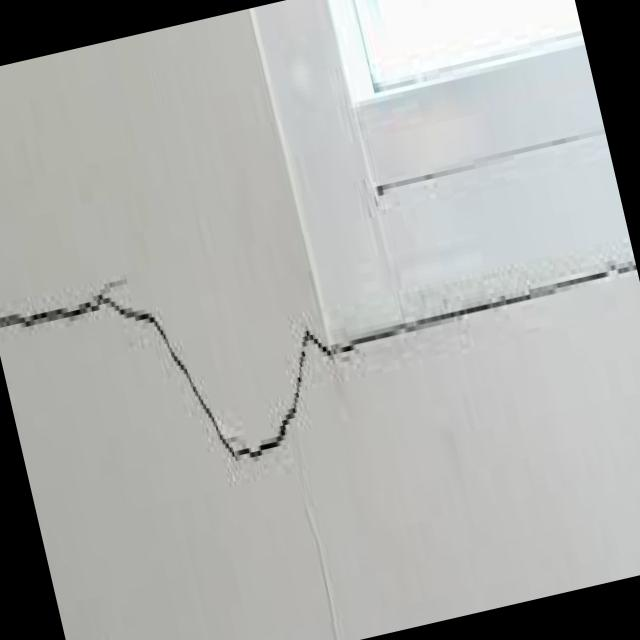crack: (0, 218, 353, 511)
